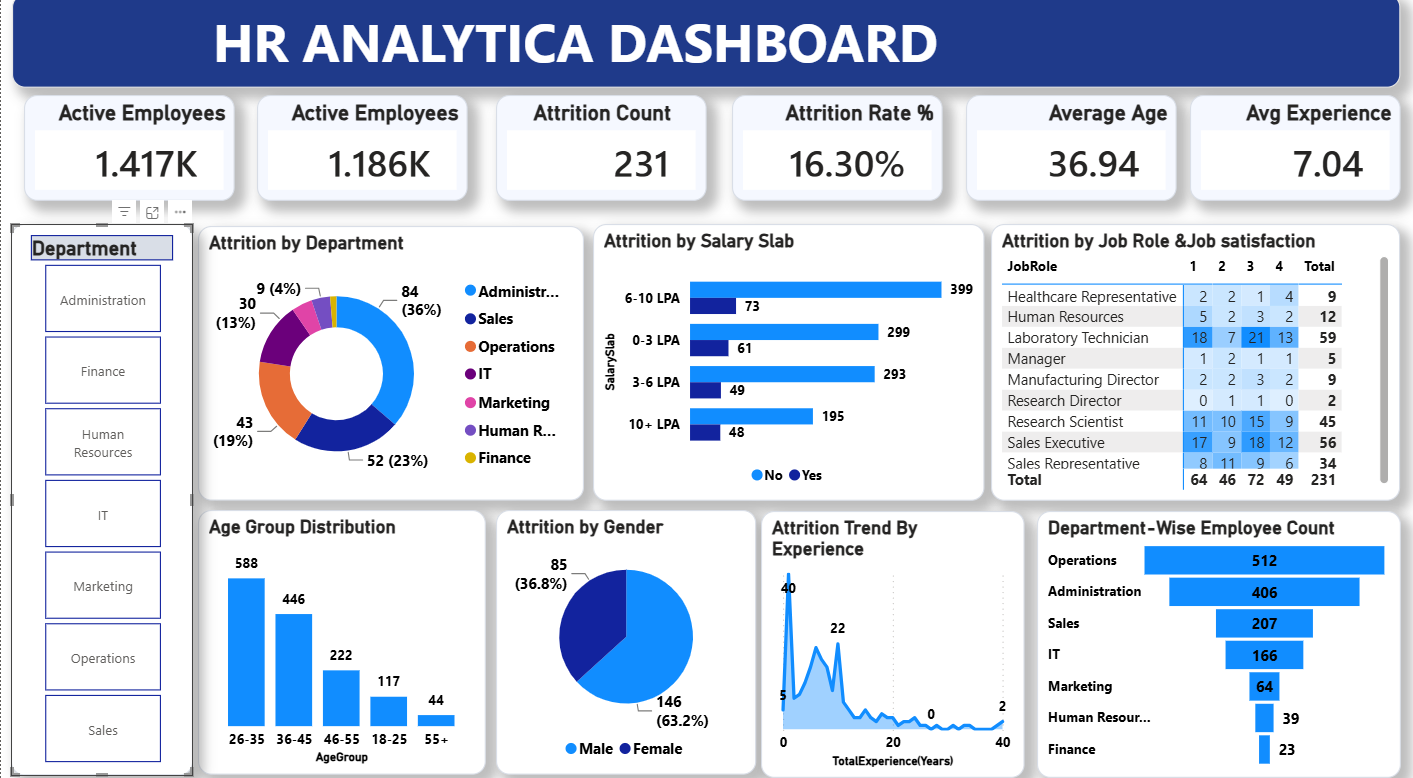

What the dashboard file says about the page in this screenshot:
{"tool":"powerbi","page":{"name":"Page 1","canvas":[1280,720],"ordinal":0},"visuals":[{"type":"textbox","box":[10,0,1259,85],"z":0},{"type":"cardVisual","title":"Active Employees ","fields":{"Data":["CountNonNull(HR_Analytics-4.EmployeeCount)"]},"box":[232,92,191,96],"z":1000},{"type":"cardVisual","title":"Active Employees ","fields":{"Data":["CountNonNull(HR_Analytics-4.EmployeeCount)"]},"box":[21,92,191,96],"z":2000},{"type":"cardVisual","title":"Attrition Count","fields":{"Data":["Sum(HR_Analytics-4.AttritionCount)"]},"box":[449,92,191,96],"z":3000},{"type":"cardVisual","title":"Attrition Rate % ","fields":{"Data":["HR_Analytics-4.Attrition Rate %"]},"box":[663,92,191,96],"z":4000},{"type":"cardVisual","title":"Average Age","fields":{"Data":["Avg(HR_Analytics-4.Age)"]},"box":[875,92,191,96],"z":5000},{"type":"cardVisual","title":"Avg Experience","fields":{"Data":["Avg(HR_Analytics-4.YearsatCompany)"]},"box":[1078,92,191,96],"z":6000},{"type":"donutChart","title":" Attrition by Department","fields":{"Category":["HR_Analytics-4.Department"],"Y":["Sum(HR_Analytics-4.AttritionCount)"]},"box":[179,210,350,249],"z":7000},{"type":"clusteredBarChart","title":"Attrition by Salary Slab","fields":{"Category":["HR_Analytics-4.SalarySlab"],"Y":["CountNonNull(HR_Analytics-4.EmpID)"],"Series":["HR_Analytics-4.Attrition"]},"box":[537,209,355,251],"z":8000},{"type":"pivotTable","title":"Attrition by Job Role &Job satisfaction","fields":{"Rows":["HR_Analytics-4.JobRole"],"Values":["Sum(HR_Analytics-4.AttritionCount)"],"Columns":["HR_Analytics-4.JobSatisfaction"]},"box":[898,209,371,251],"z":9000},{"type":"columnChart","title":"Age Group Distribution","fields":{"Category":["HR_Analytics-4.AgeGroup"],"Y":["Sum(HR_Analytics-4.EmployeeCount)"]},"box":[179,468,261,240],"z":10000},{"type":"pieChart","title":" Attrition by Gender","fields":{"Category":["HR_Analytics-4.Gender"],"Y":["Sum(HR_Analytics-4.AttritionCount)"]},"box":[449,468,236,240],"z":11000},{"type":"areaChart","title":" Attrition Trend By Experience","fields":{"Category":["HR_Analytics-4.TotalExperience(Years)"],"Y2":["Sum(HR_Analytics-4.AttritionCount)"]},"box":[689,469,239,242],"z":12000},{"type":"funnel","title":"Department-Wise Employee Count","fields":{"Category":["HR_Analytics-4.Department"],"Y":["CountNonNull(HR_Analytics-4.EmpID)"]},"box":[939,469,330,242],"z":13000},{"type":"slicer","fields":{"Values":["HR_Analytics-4.Department"]},"box":[9,209,165,500],"z":14000}]}

Visuals, with their boxes in screenshot pixels (x1, y1, x2, y2), scaled from the page's 1280x720 canvas onto the 1413x778 screenshot:
textbox: [11, 0, 1401, 92]
"Active Employees " cardVisual: [256, 99, 467, 203]
"Active Employees " cardVisual: [23, 99, 234, 203]
"Attrition Count" cardVisual: [496, 99, 706, 203]
"Attrition Rate % " cardVisual: [732, 99, 943, 203]
"Average Age" cardVisual: [966, 99, 1177, 203]
"Avg Experience" cardVisual: [1190, 99, 1401, 203]
" Attrition by Department" donutChart: [198, 227, 584, 496]
"Attrition by Salary Slab" clusteredBarChart: [593, 226, 985, 497]
"Attrition by Job Role &Job satisfaction" pivotTable: [991, 226, 1401, 497]
"Age Group Distribution" columnChart: [198, 506, 486, 765]
" Attrition by Gender" pieChart: [496, 506, 756, 765]
" Attrition Trend By Experience" areaChart: [761, 507, 1024, 768]
"Department-Wise Employee Count" funnel: [1037, 507, 1401, 768]
slicer - HR_Analytics-4.Department: [10, 226, 192, 766]
